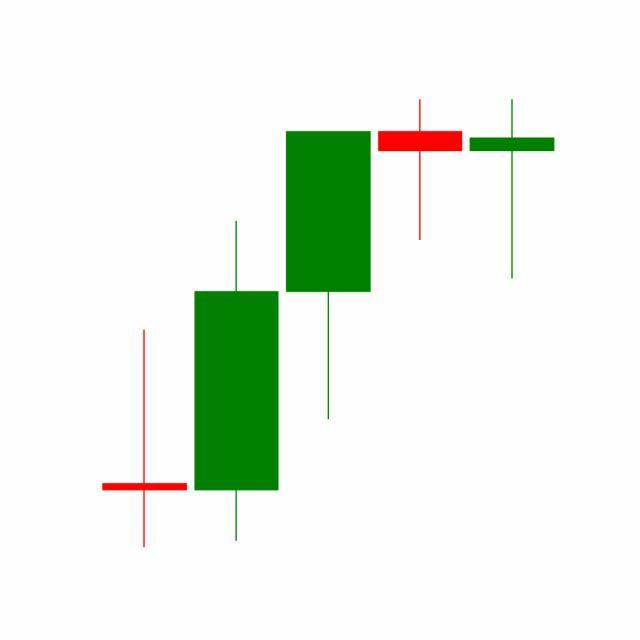Spinning Top: (466, 98, 559, 282)
